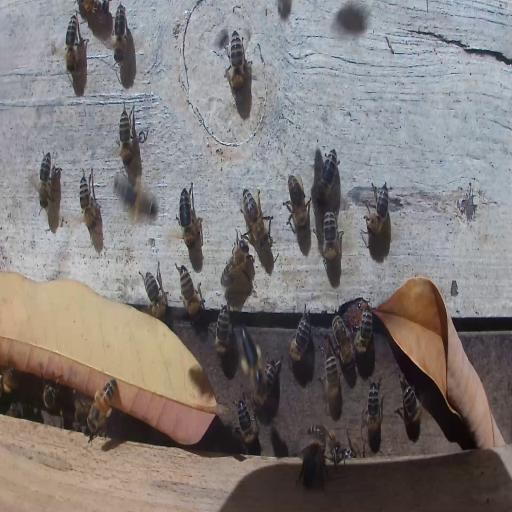nonpollenbee: (240, 187, 272, 245), (296, 439, 326, 493), (177, 183, 200, 250), (222, 231, 250, 286), (364, 180, 391, 235), (234, 398, 260, 454), (313, 148, 339, 204), (286, 175, 310, 235), (140, 262, 168, 311), (178, 266, 203, 320), (288, 305, 311, 363), (78, 170, 98, 235), (398, 378, 422, 431), (319, 210, 342, 265), (321, 349, 342, 408), (252, 361, 277, 408), (229, 29, 247, 94), (332, 318, 355, 368), (365, 376, 383, 438), (209, 303, 231, 353), (354, 303, 372, 361), (118, 104, 133, 171), (112, 3, 127, 64), (38, 150, 52, 209), (65, 14, 77, 75), (309, 425, 339, 449), (42, 382, 60, 411), (2, 366, 18, 396), (74, 399, 88, 430), (8, 401, 24, 416)
pollenbee: (109, 162, 159, 226), (86, 375, 118, 435), (240, 326, 264, 390)
